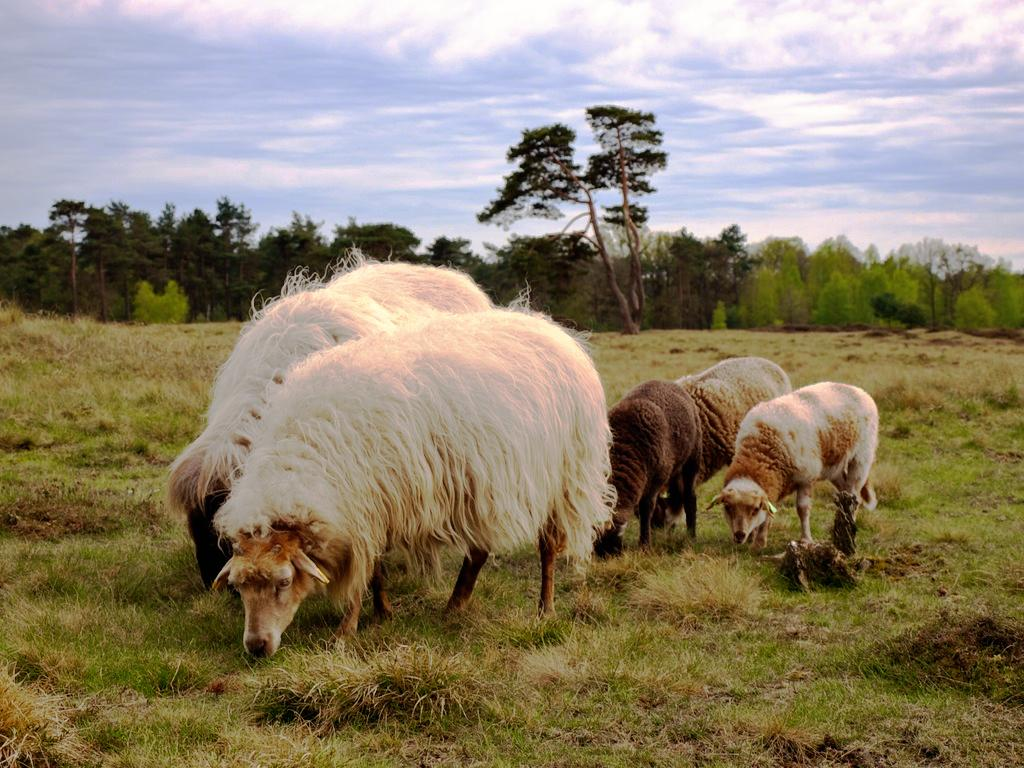Sheep: (203, 284, 618, 664), (160, 242, 492, 618), (703, 378, 880, 562), (666, 356, 792, 532), (592, 384, 699, 556)
